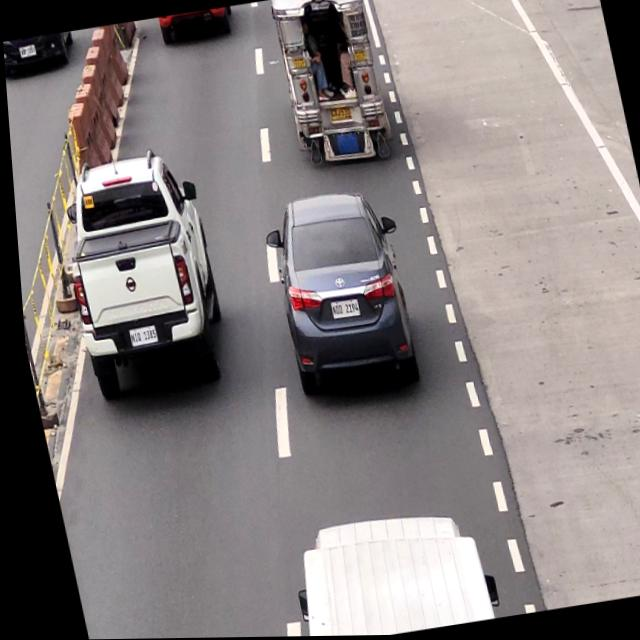Car: (45, 146, 229, 403), (260, 190, 415, 396)
Jeep: (271, 501, 492, 637), (268, 0, 400, 173)
License-Plate: (124, 326, 155, 349), (327, 300, 357, 322), (327, 103, 353, 124)
